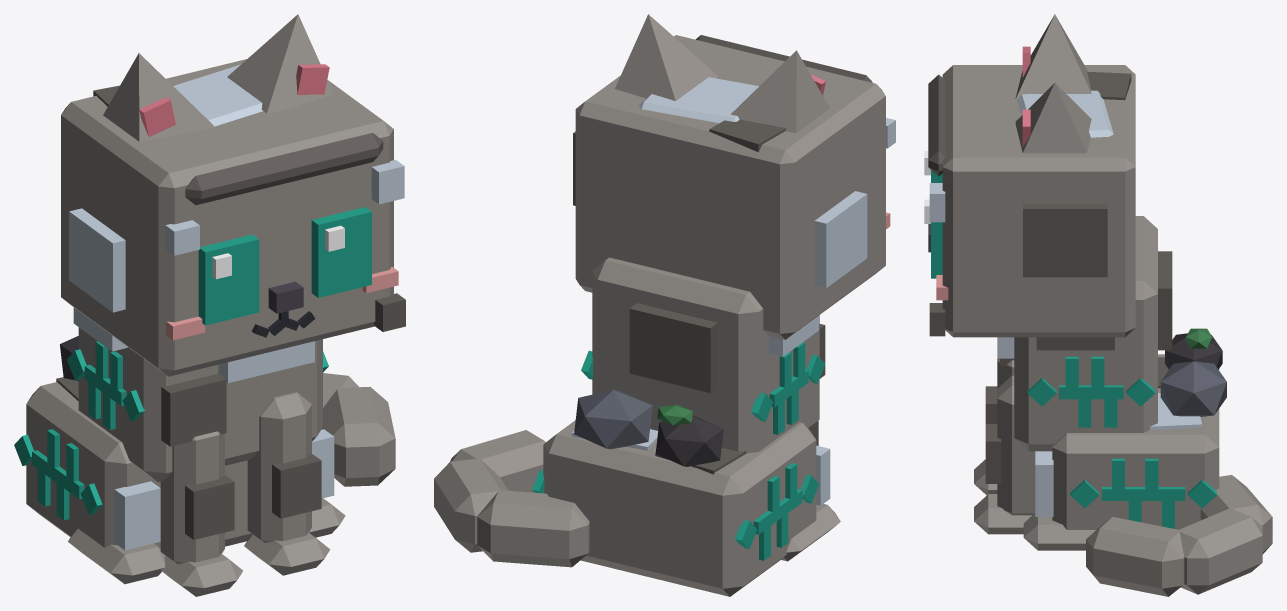
File: CatCafe_Cat_Golem_Sit.fbx
3 views of the same model, side by side, from view 1: azimuth 30°, elevation 25°; view 2: azimuth 150°, elevation 25°; view 3: azimuth 270°, elevation 25° (orthographic). The views are drawn at different scales.
Parts seen in each view (by area): view 1: CatCafe_Cat_Golem_Sit_Head, CatCafe_Cat_Golem_Sit_Body, CatCafe_Cat_Golem_Sit_LegF1, CatCafe_Cat_Golem_Sit_LegF2, CatCafe_Cat_Golem_Sit_Runes, CatCafe_Cat_Golem_Sit_Tail, CatCafe_Cat_Golem_Sit_EarL, CatCafe_Cat_Golem_Sit_EarR, CatCafe_Cat_Golem_Sit_Eye2, CatCafe_Cat_Golem_Sit_Eye1; view 2: CatCafe_Cat_Golem_Sit_Head, CatCafe_Cat_Golem_Sit_Body, CatCafe_Cat_Golem_Sit_Tail, CatCafe_Cat_Golem_Sit_Prop, CatCafe_Cat_Golem_Sit_Runes, CatCafe_Cat_Golem_Sit_EarL, CatCafe_Cat_Golem_Sit_EarR; view 3: CatCafe_Cat_Golem_Sit_Head, CatCafe_Cat_Golem_Sit_Body, CatCafe_Cat_Golem_Sit_Tail, CatCafe_Cat_Golem_Sit_Runes, CatCafe_Cat_Golem_Sit_LegF1, CatCafe_Cat_Golem_Sit_Prop, CatCafe_Cat_Golem_Sit_EarL, CatCafe_Cat_Golem_Sit_EarR, CatCafe_Cat_Golem_Sit_LegF2, CatCafe_Cat_Golem_Sit_Eye1.
Boxes of the visible parts, bbox=[...] form: CatCafe_Cat_Golem_Sit_Head: bbox=[61, 59, 405, 376]; CatCafe_Cat_Golem_Sit_Body: bbox=[26, 307, 345, 584]; CatCafe_Cat_Golem_Sit_LegF1: bbox=[244, 392, 330, 575]; CatCafe_Cat_Golem_Sit_LegF2: bbox=[160, 431, 243, 596]; CatCafe_Cat_Golem_Sit_Runes: bbox=[14, 341, 328, 520]; CatCafe_Cat_Golem_Sit_Tail: bbox=[321, 373, 395, 486]; CatCafe_Cat_Golem_Sit_EarL: bbox=[227, 14, 333, 113]; CatCafe_Cat_Golem_Sit_EarR: bbox=[103, 53, 214, 141]; CatCafe_Cat_Golem_Sit_Eye2: bbox=[198, 234, 259, 325]; CatCafe_Cat_Golem_Sit_Eye1: bbox=[311, 207, 371, 297]; CatCafe_Cat_Golem_Sit_Head: bbox=[573, 35, 895, 339]; CatCafe_Cat_Golem_Sit_Body: bbox=[543, 257, 840, 596]; CatCafe_Cat_Golem_Sit_Tail: bbox=[434, 430, 589, 567]; CatCafe_Cat_Golem_Sit_Prop: bbox=[574, 390, 723, 466]; CatCafe_Cat_Golem_Sit_Runes: bbox=[532, 342, 825, 560]; CatCafe_Cat_Golem_Sit_EarL: bbox=[615, 14, 718, 100]; CatCafe_Cat_Golem_Sit_EarR: bbox=[730, 50, 829, 132]; CatCafe_Cat_Golem_Sit_Head: bbox=[928, 65, 1135, 337]; CatCafe_Cat_Golem_Sit_Body: bbox=[997, 216, 1219, 550]; CatCafe_Cat_Golem_Sit_Tail: bbox=[1086, 475, 1272, 596]; CatCafe_Cat_Golem_Sit_Runes: bbox=[1027, 356, 1216, 528]; CatCafe_Cat_Golem_Sit_LegF1: bbox=[974, 375, 1035, 534]; CatCafe_Cat_Golem_Sit_Prop: bbox=[1160, 328, 1226, 416]; CatCafe_Cat_Golem_Sit_EarL: bbox=[1015, 83, 1091, 153]; CatCafe_Cat_Golem_Sit_EarR: bbox=[1015, 14, 1091, 98]; CatCafe_Cat_Golem_Sit_LegF2: bbox=[974, 358, 1014, 495]; CatCafe_Cat_Golem_Sit_Eye1: bbox=[924, 199, 942, 278].
Size of the model in its own units: 1.61 by 2.22 by 1.52.
Materials: 1 (1 with a texture image).
